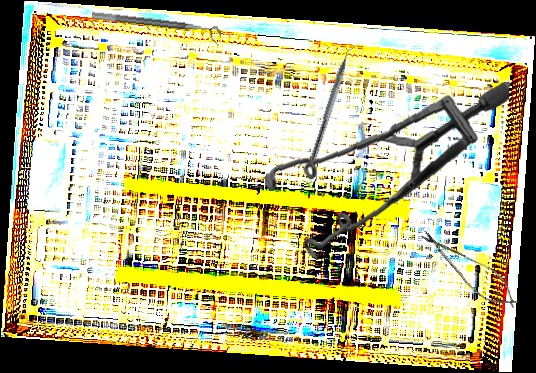Chopper: (308, 38, 361, 169)
Fixation Ring: (90, 11, 222, 46)
Micro Scissor: (411, 221, 527, 318)
Speculum: (261, 69, 510, 270)
